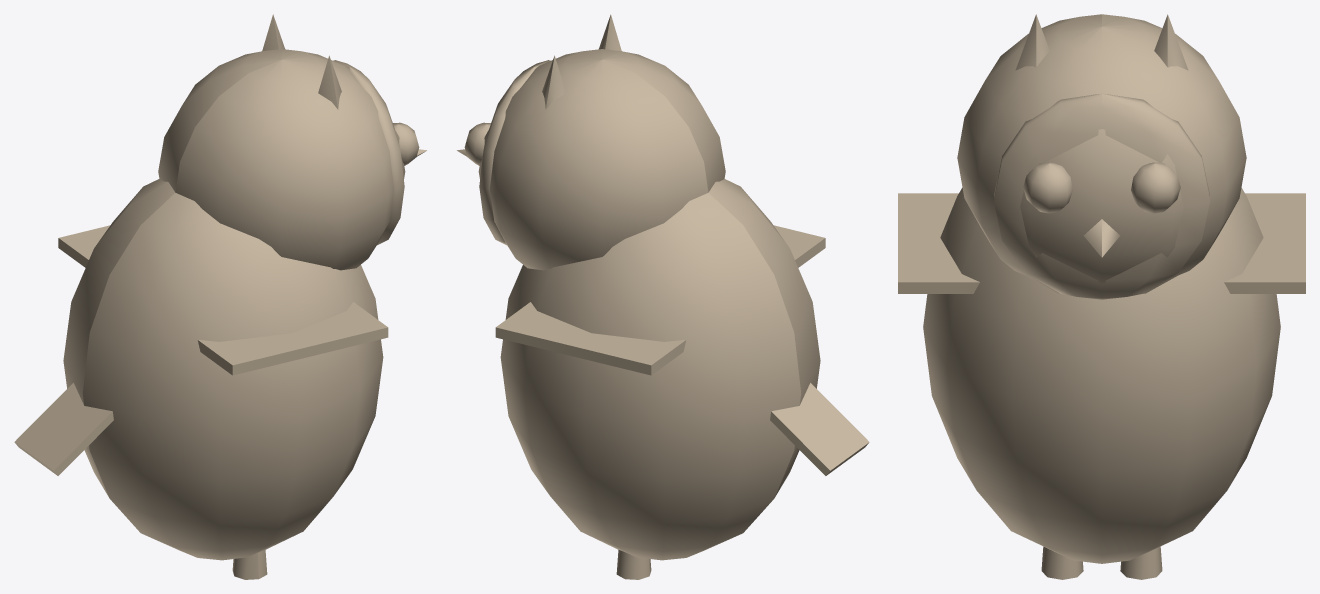
The model's file is owl.glb.
3 views of the same model, side by side, from view 1: azimuth 30°, elevation 25°; view 2: azimuth 150°, elevation 25°; view 3: azimuth 270°, elevation 25° (orthographic). The views are drawn at different scales.
Visible parts, largest first — view 1: Bird; view 2: Bird; view 3: Bird.
Part boxes in pixels (<box>): Bird: <box>14,14,426,579</box>; Bird: <box>457,14,869,579</box>; Bird: <box>898,14,1305,579</box>.
Bounding box in the file's own units: 0.8094 × 1 × 0.62.
